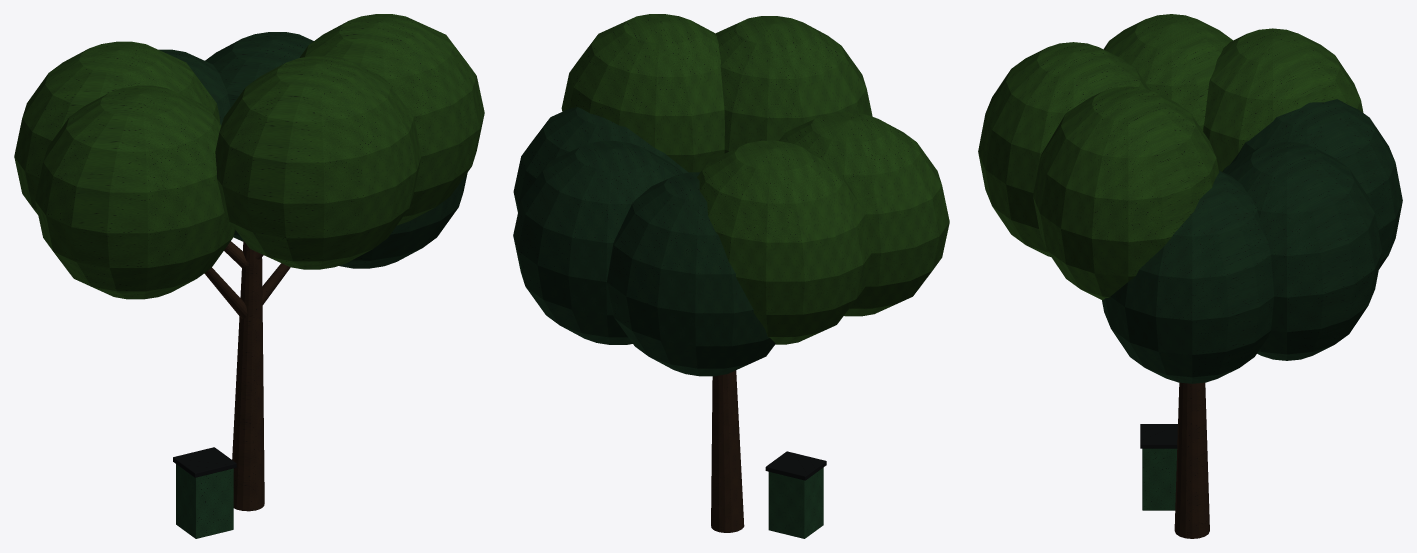
Rendered from PROP-B2791134C201_lod0.glb.
3 renders of one model, left to right at view 1: azimuth 30°, elevation 25°; view 2: azimuth 150°, elevation 25°; view 3: azimuth 270°, elevation 25°, orthographic. The views are drawn at different scales.
Parts seen in each view (by area): view 1: leaf_crown.091, leaf_crown.090, trunk.083, waste_container, branch.054, bin_lid; view 2: leaf_crown.091, leaf_crown.090, trunk.083, waste_container, bin_lid; view 3: leaf_crown.091, leaf_crown.090, trunk.083, waste_container, bin_lid.
Boxes of the visible parts, box(x1,y1,x2,y2) form: leaf_crown.091: box(14, 14, 484, 299); leaf_crown.090: box(158, 32, 467, 268); trunk.083: box(232, 240, 264, 511); waste_container: box(176, 464, 233, 538); branch.054: box(204, 241, 290, 318); bin_lid: box(173, 447, 236, 477); leaf_crown.091: box(561, 14, 949, 344); leaf_crown.090: box(513, 107, 775, 376); trunk.083: box(711, 370, 744, 532); waste_container: box(768, 467, 823, 538); bin_lid: box(765, 451, 826, 480); leaf_crown.091: box(978, 14, 1363, 300); leaf_crown.090: box(1102, 99, 1402, 383); trunk.083: box(1174, 382, 1209, 538); waste_container: box(1142, 448, 1177, 510); bin_lid: box(1140, 424, 1177, 448).
Bounding box in the file's own units: 6.69 × 7.24 × 5.75.
Materials: 6 (6 with a texture image).
